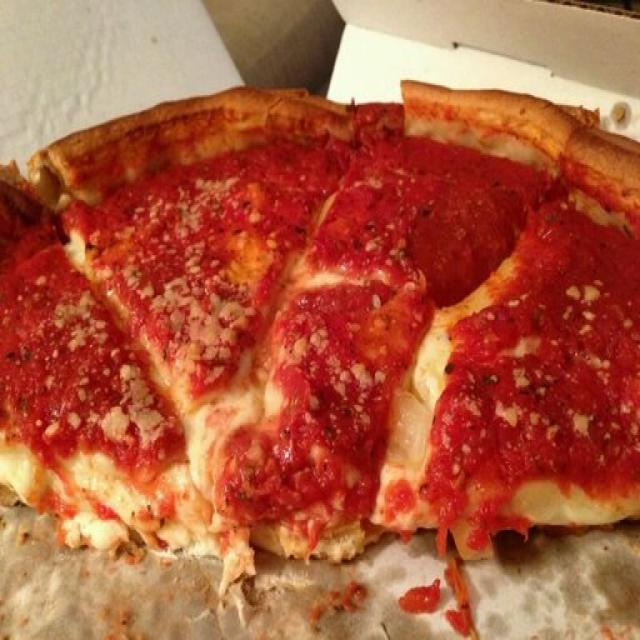Cheese: (398, 330, 442, 476), (68, 458, 153, 517), (177, 391, 253, 456), (4, 447, 49, 499)
Pizza: (0, 80, 640, 560)
